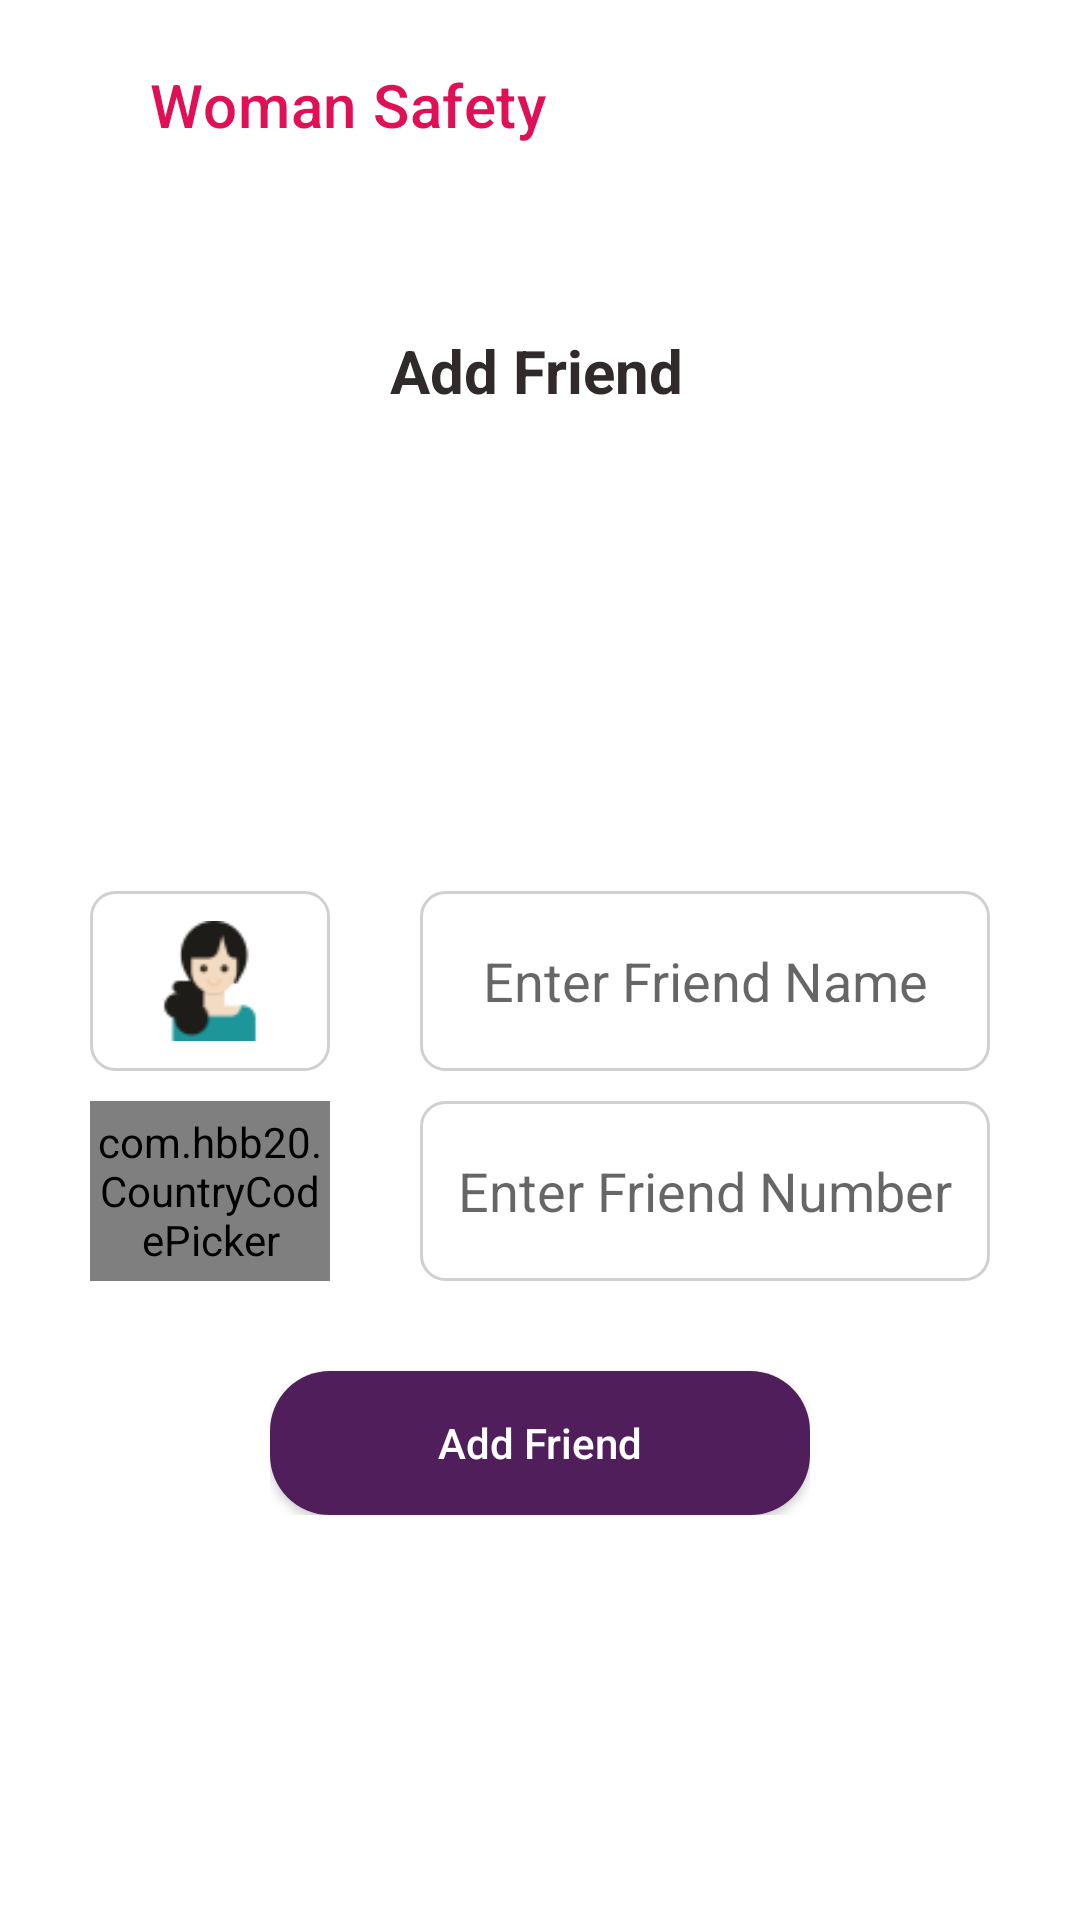

Named icons in this screenshot (1080 × 1920) and their centers, (x,y):
woman: (210,981)
